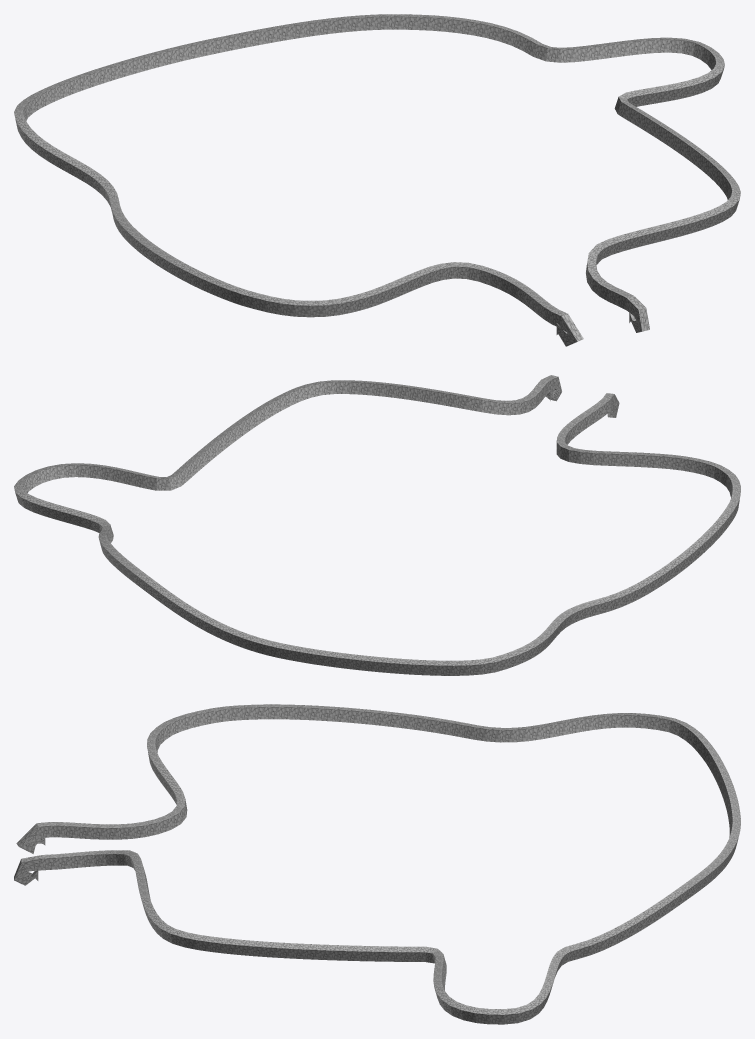
File: gongon_stonewall.fbx
The picture shows the model from 3 angles, top to bottom: view 1: azimuth 30°, elevation 25°; view 2: azimuth 150°, elevation 25°; view 3: azimuth 270°, elevation 25°; orthographic projection. The views are drawn at different scales.
Parts seen in each view (by area): view 1: wall; view 2: wall; view 3: wall.
Boxes of the visible parts, left/top/right/bottom form: wall: left=14, top=14, right=740, bottom=346; wall: left=14, top=375, right=740, bottom=675; wall: left=14, top=704, right=740, bottom=1024.
Bounding box in the file's own units: 16223 × 990 × 16858.
